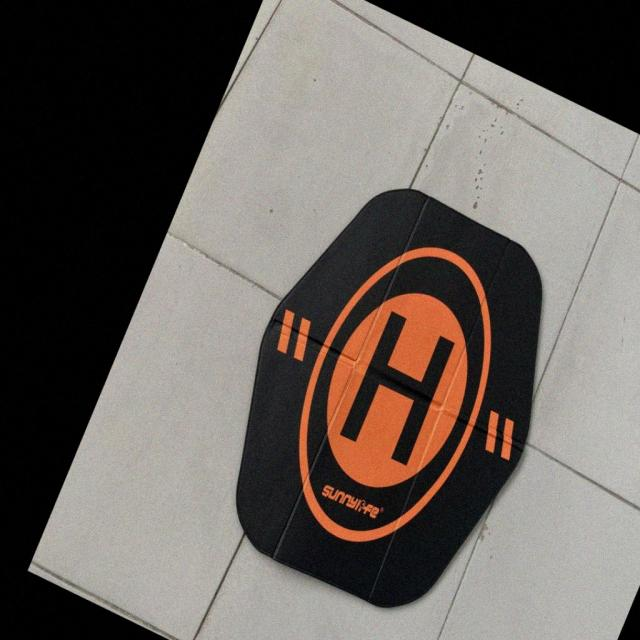helipad: (294, 242, 498, 547)
